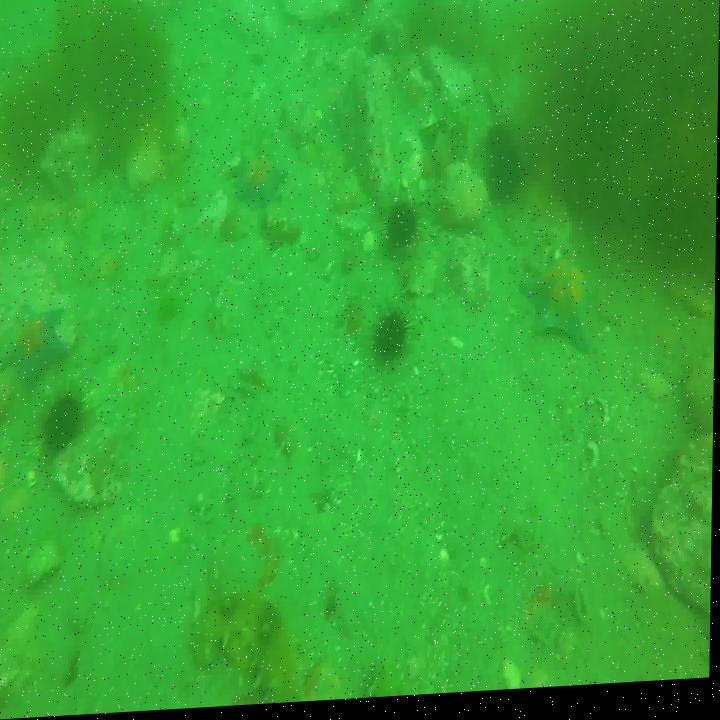echinus: (42, 390, 86, 464), (487, 134, 524, 213), (371, 306, 412, 374), (386, 202, 425, 261)
holothurian: (200, 589, 308, 710)
starfish: (525, 250, 607, 365), (1, 303, 69, 388), (236, 150, 289, 214)
